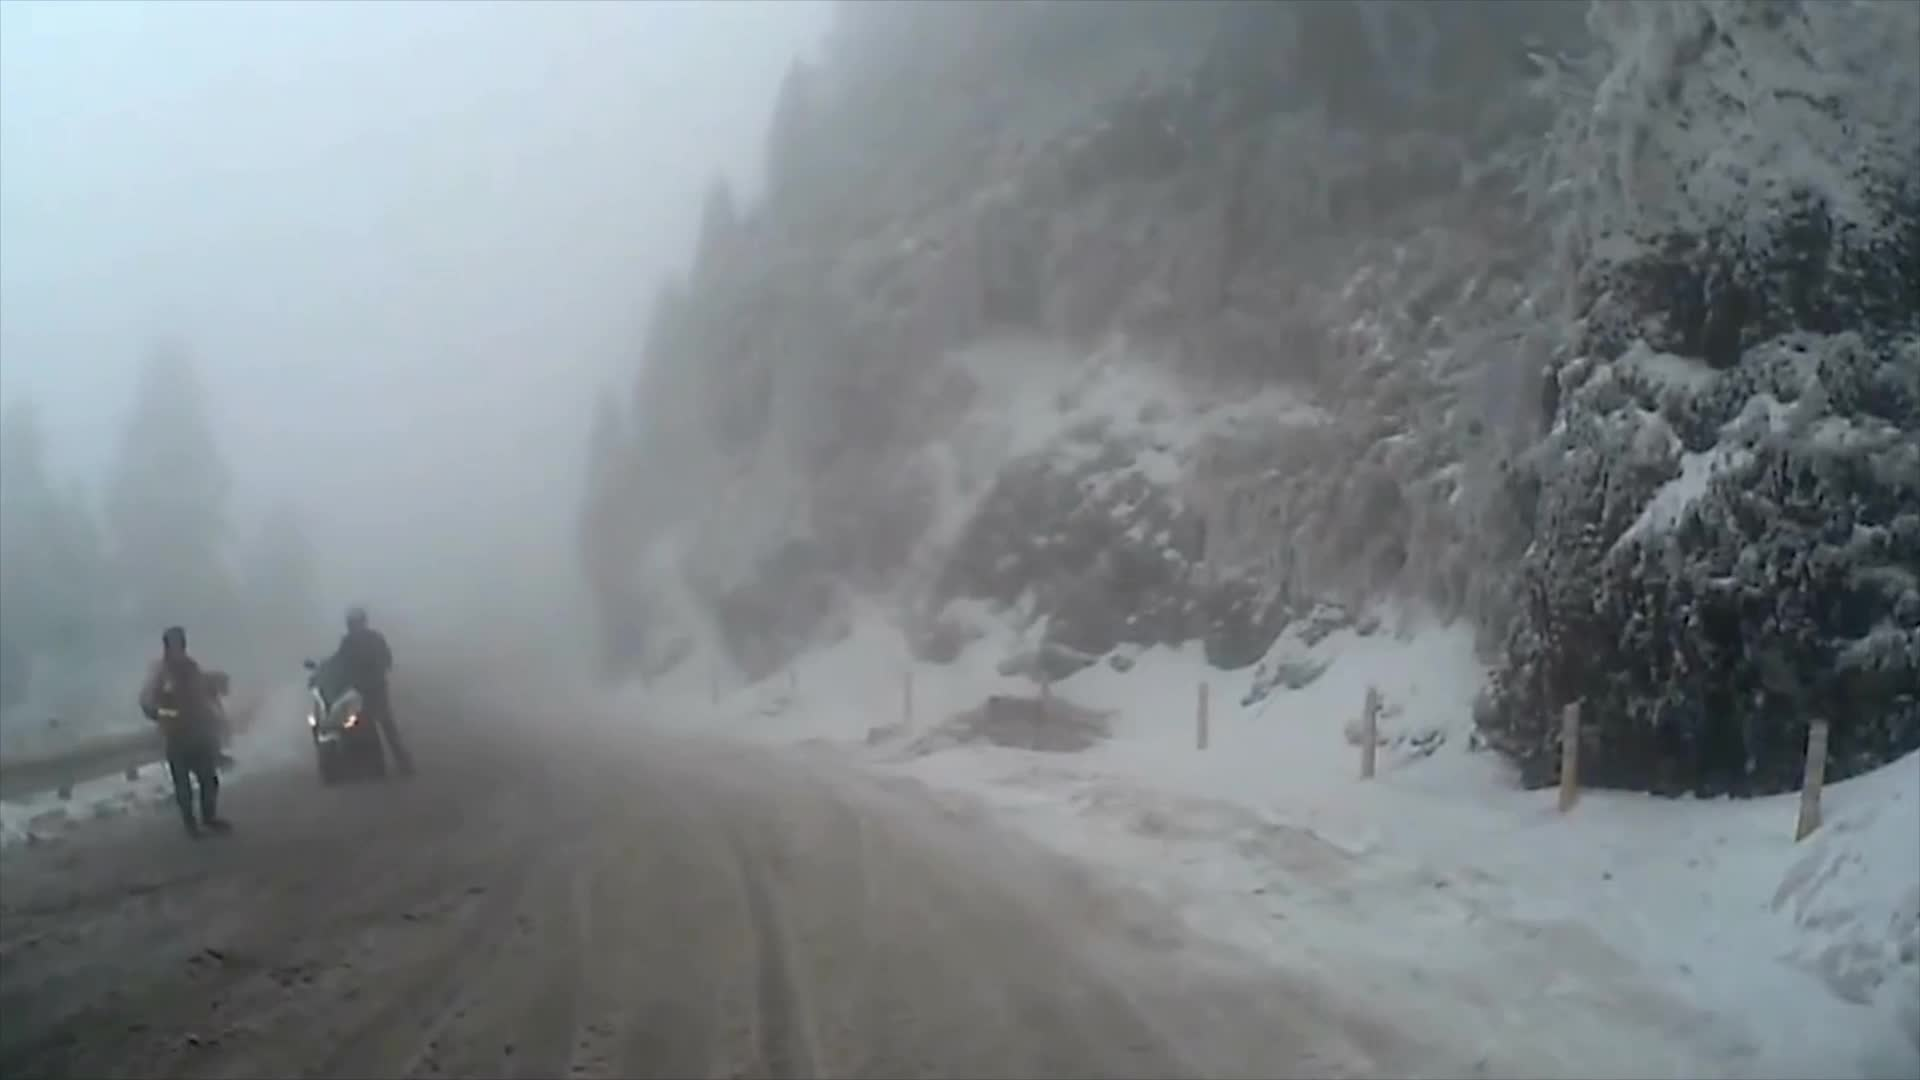pedestrian: (148, 627, 243, 840), (326, 608, 420, 794)
